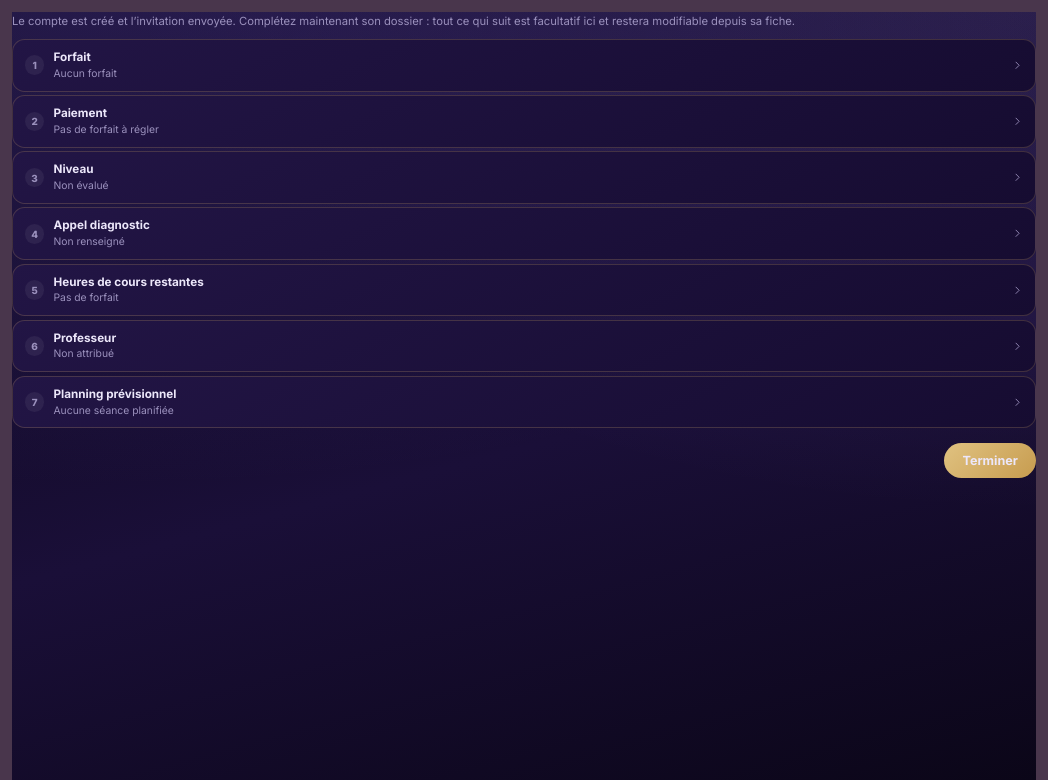
Test case: CompleterDossierEtudiant › dit ce qui manque plutôt que d’ouvrir un formulaire sans forfait
Click the button "2 Paiement Pas de forfait à régler".
click(80, 113)  # box [13,96,1035,147]
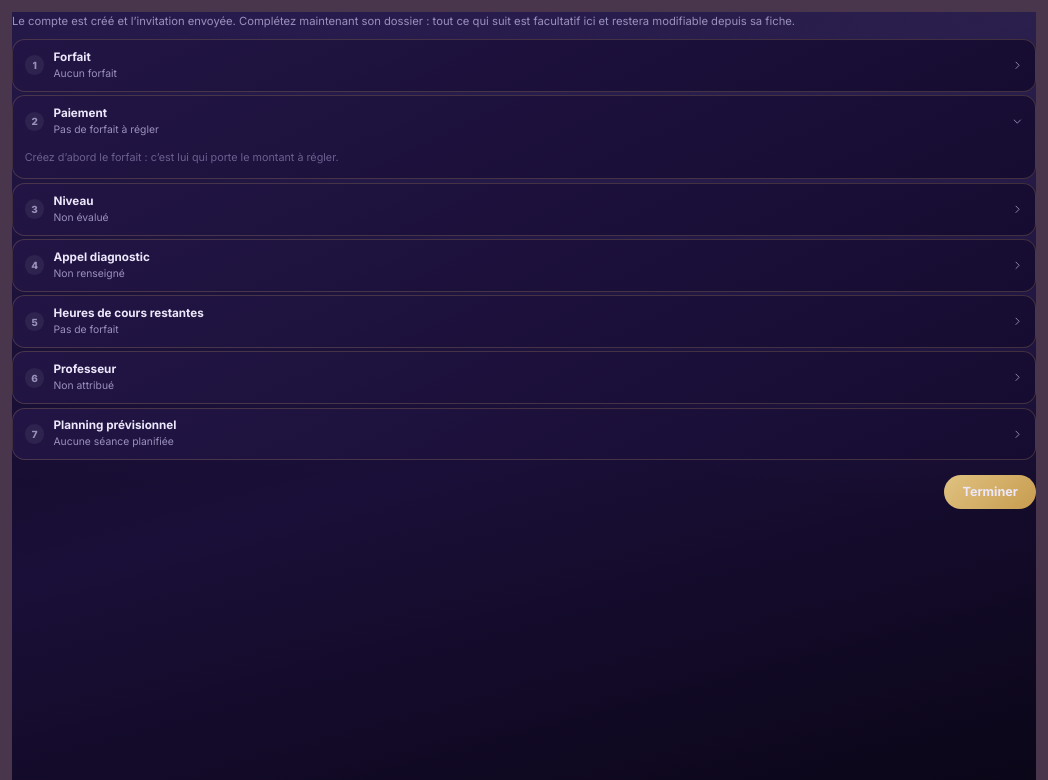
Now the text "Créez d’abord le forfait" is shown, box [25,150,339,164]
Click the button "5 Heures de cours restantes Pas de forfait".
click(129, 313)  # box [13,296,1035,347]
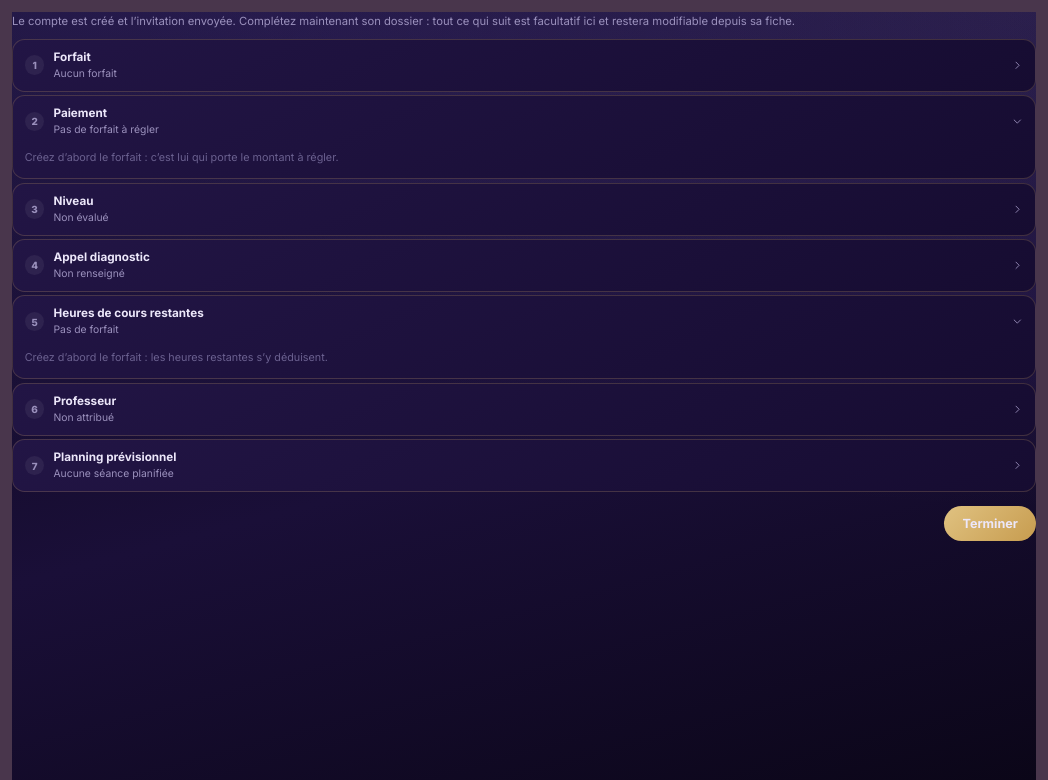
Now the text "les heures restantes s’y déduisent" is shown, box [25,351,328,364]
